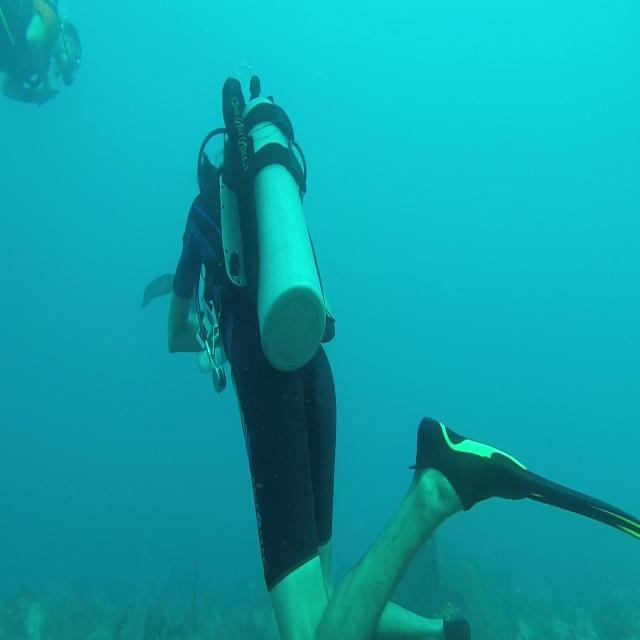human: (161, 73, 339, 638), (0, 0, 82, 107)
